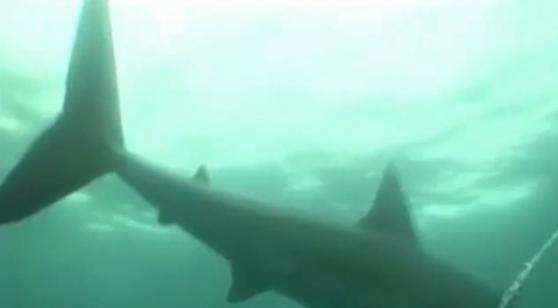shark: (1, 1, 507, 308)
